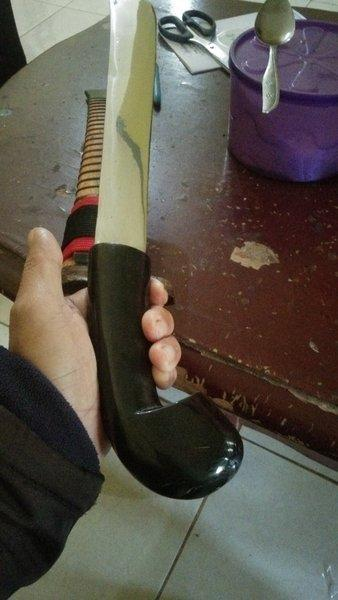espada: (94, 1, 236, 491)
